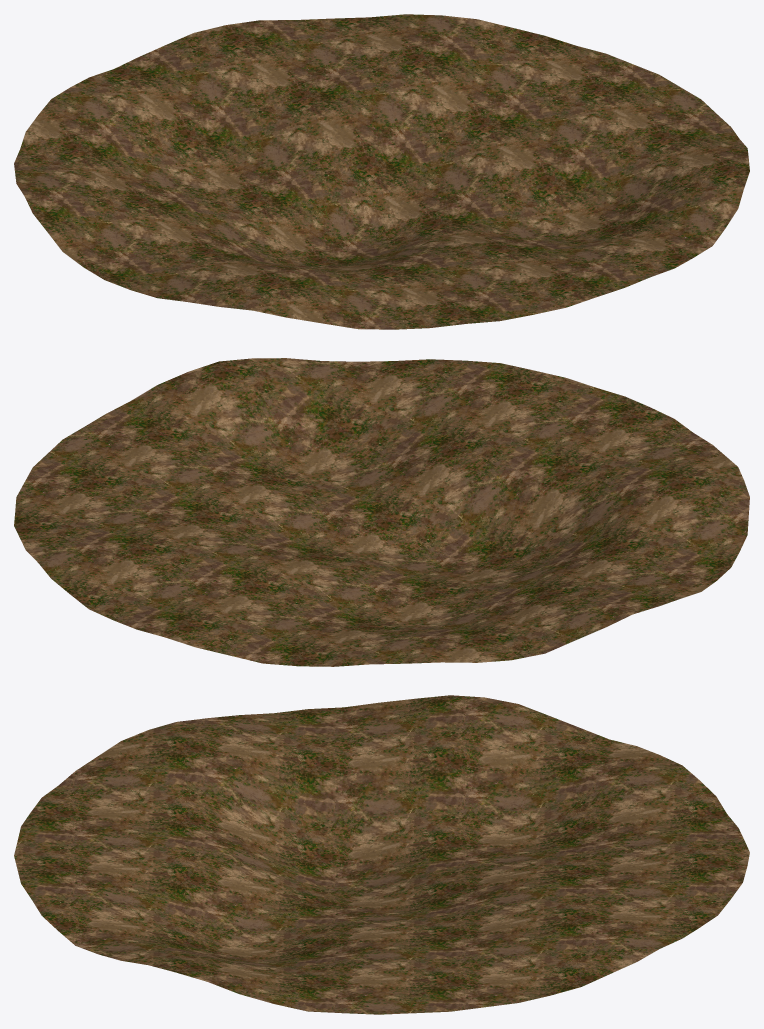
Rendered from tree_scene.gltf.
The picture shows the model from 3 angles, top to bottom: view 1: azimuth 30°, elevation 25°; view 2: azimuth 150°, elevation 25°; view 3: azimuth 270°, elevation 25°; orthographic projection.
Parts seen in each view (by area): view 1: Ground; view 2: Ground; view 3: Ground.
Boxes of the visible parts, x1,y1,x2,y2 form: Ground: (14,14,749,329); Ground: (14,358,749,666); Ground: (14,695,749,1014).
Size of what is drawn, in the model's own units: 69.6 by 6.35 by 70.16.
1 material, 1 textured.
